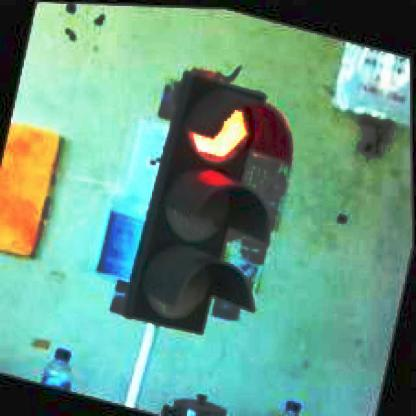Traffic Light -Red-: (119, 70, 306, 351)
